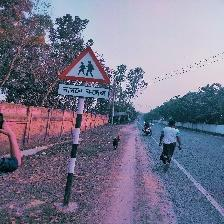College-in-front: (41, 23, 129, 122)
